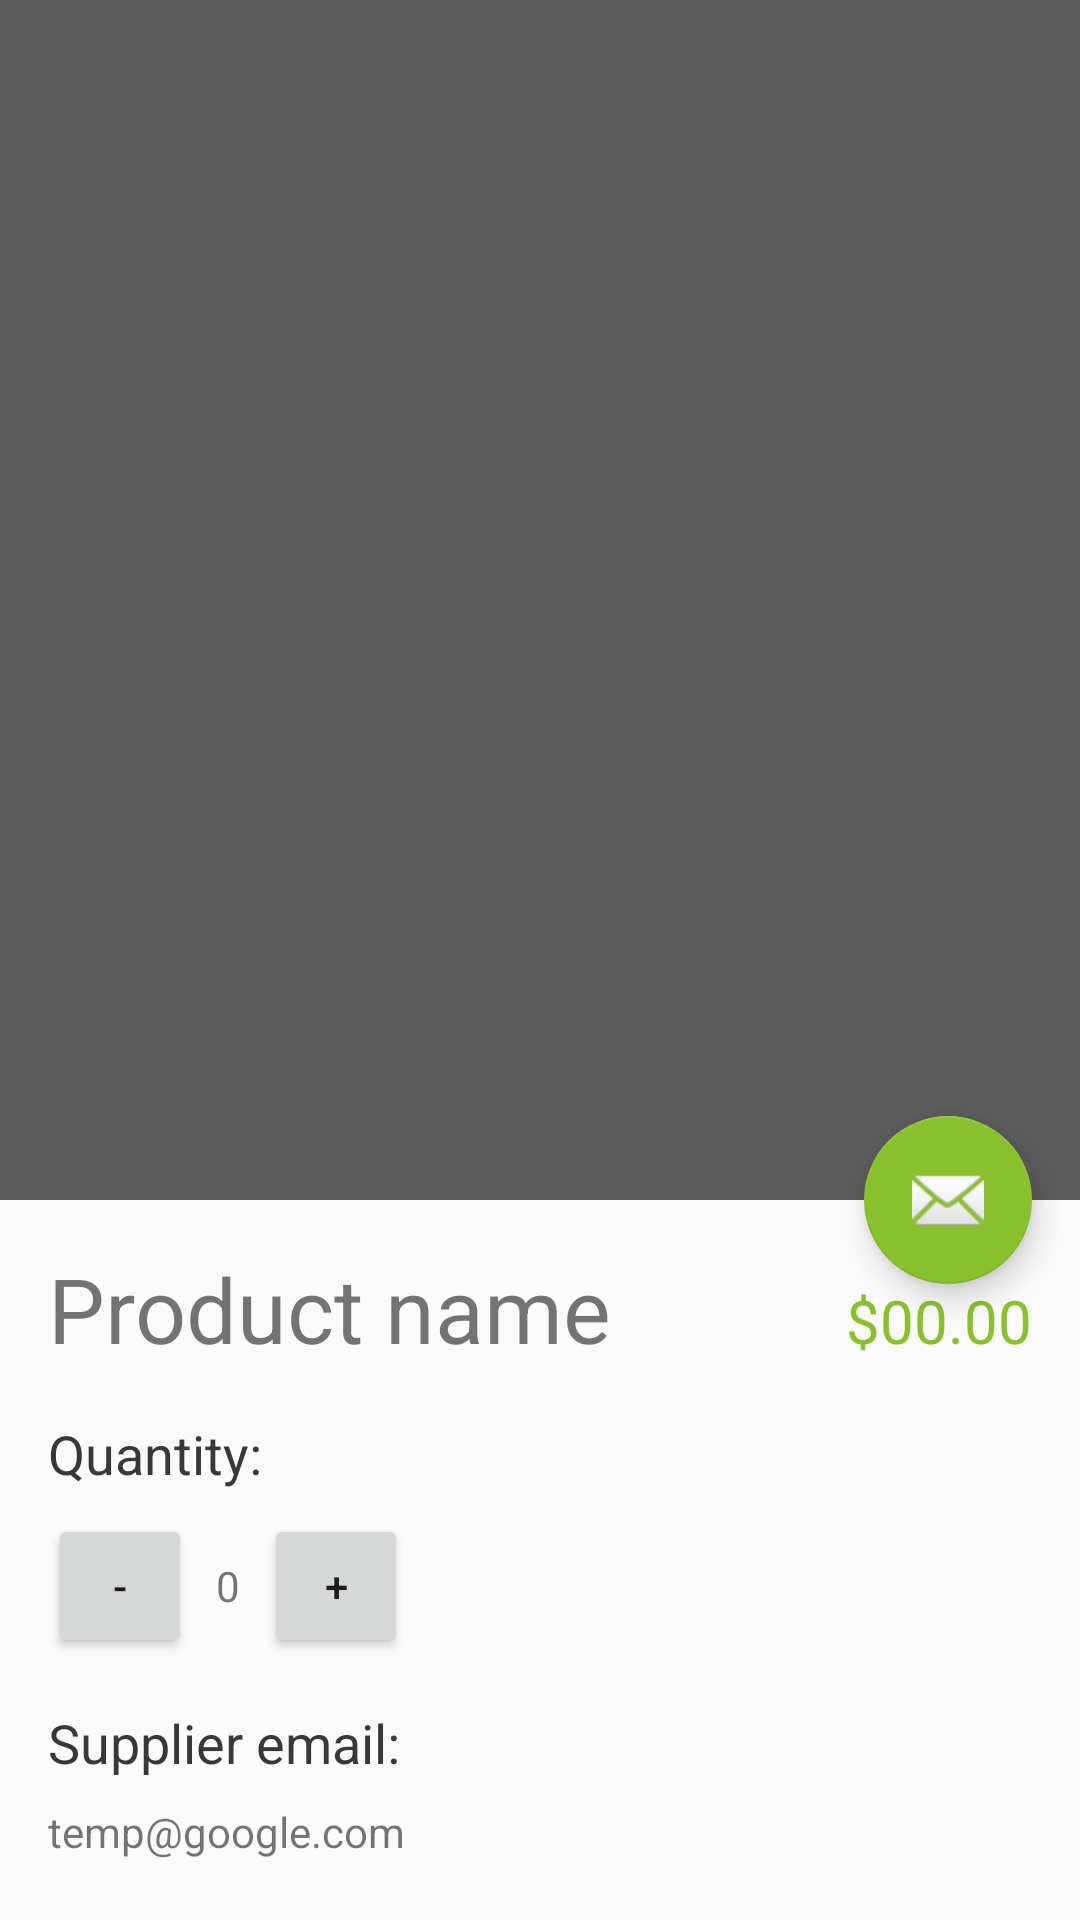

Where to tap for icons on this 1080 x 1920 app screen, as (x,y):
email: (948,1200)
